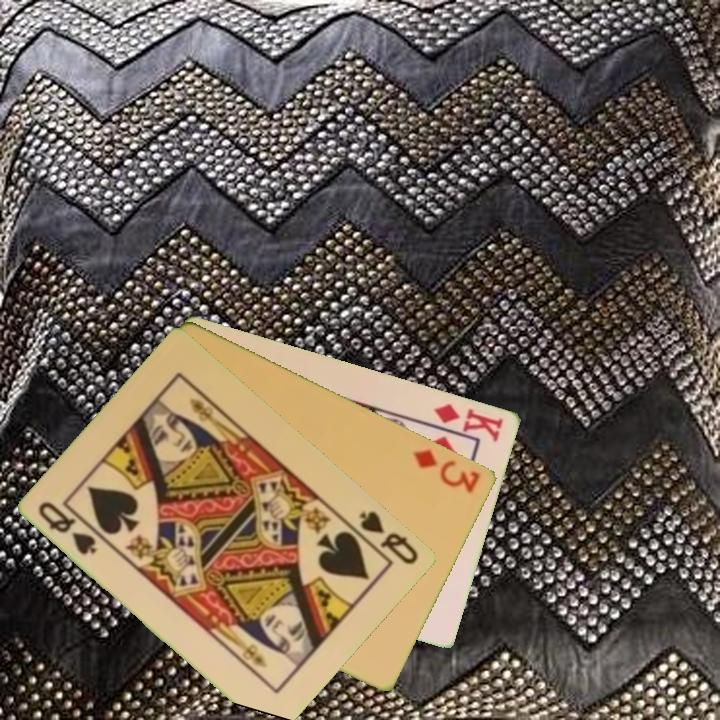3d: (410, 446, 484, 496)
Kd: (431, 399, 507, 445)
Qs: (356, 507, 422, 568), (35, 497, 100, 558)
